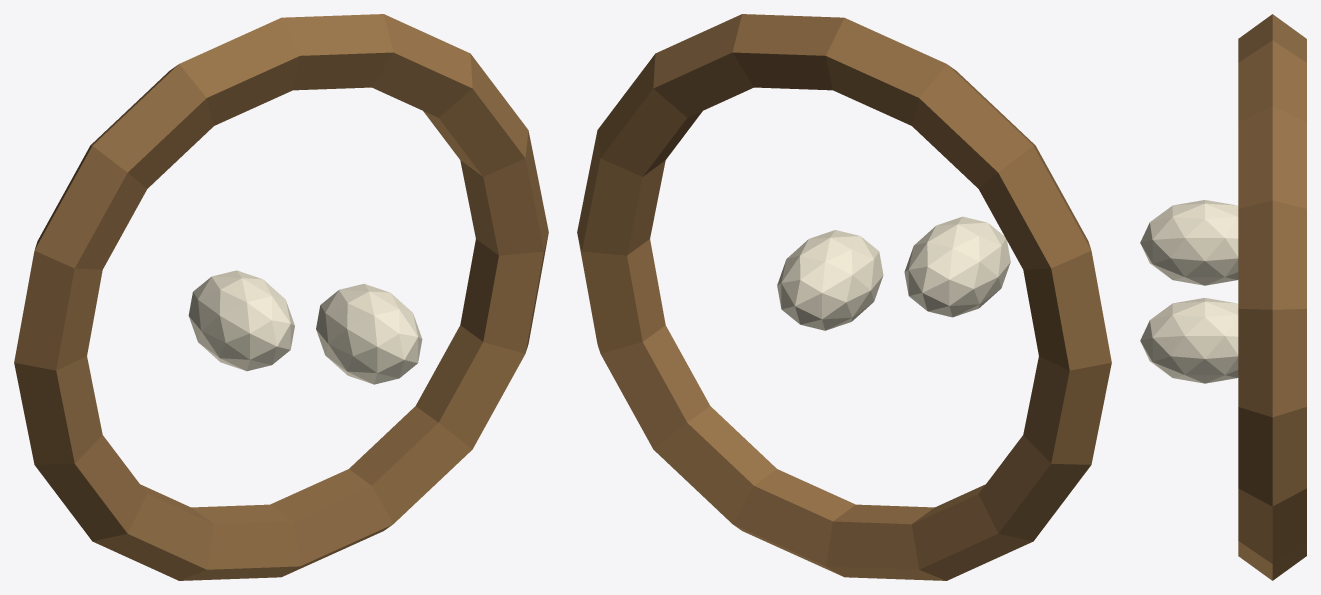
File: pet_nest_small.glb
The picture shows the model from 3 angles, left to right: view 1: azimuth 30°, elevation 25°; view 2: azimuth 150°, elevation 25°; view 3: azimuth 270°, elevation 25°; orthographic projection. The views are drawn at different scales.
Visible parts, largest first — view 1: nest_ring, egg_a, egg_b; view 2: nest_ring, egg_b, egg_a; view 3: nest_ring, egg_a, egg_b.
Boxes of the visible parts, left/top/right/bottom form: nest_ring: left=14, top=14, right=548, bottom=580; egg_a: left=188, top=270, right=294, bottom=371; egg_b: left=316, top=283, right=422, bottom=384; nest_ring: left=577, top=14, right=1111, bottom=580; egg_b: left=777, top=230, right=883, bottom=330; egg_a: left=904, top=216, right=1010, bottom=317; nest_ring: left=1238, top=14, right=1306, bottom=580; egg_a: left=1140, top=200, right=1238, bottom=285; egg_b: left=1140, top=298, right=1238, bottom=383.
Size of the model in its own units: 1.26 by 1.26 by 0.3701.
